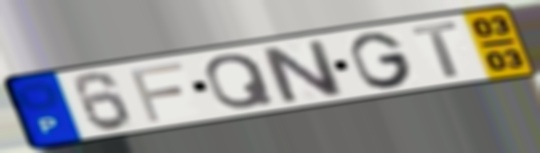6: (71, 70, 134, 135)
F: (125, 60, 187, 124)
G: (347, 30, 418, 91)
N: (255, 38, 349, 106)
Q: (202, 52, 280, 112)
T: (408, 19, 464, 80)
